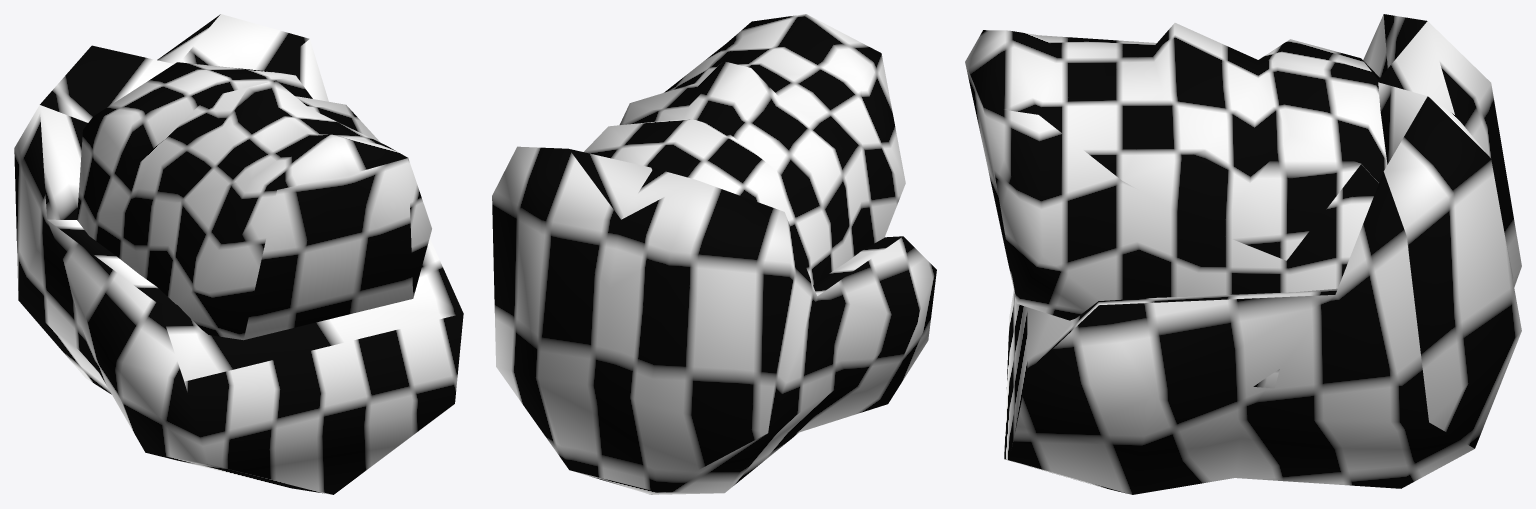
The model's file is infaunhumafa1.dae.
3 renders of one model, left to right at view 1: azimuth 30°, elevation 25°; view 2: azimuth 150°, elevation 25°; view 3: azimuth 270°, elevation 25°, orthographic. The views are drawn at different scales.
Visible parts, largest first — view 1: face; view 2: face; view 3: face.
Boxes of the visible parts, x1=… form: face: x1=14, y1=14, x2=463, y2=494; face: x1=492, y1=14, x2=936, y2=494; face: x1=965, y1=14, x2=1521, y2=494.
Bounding box in the file's own units: 1.35 × 1.6 × 1.46.
Materials: 1 (1 with a texture image).
